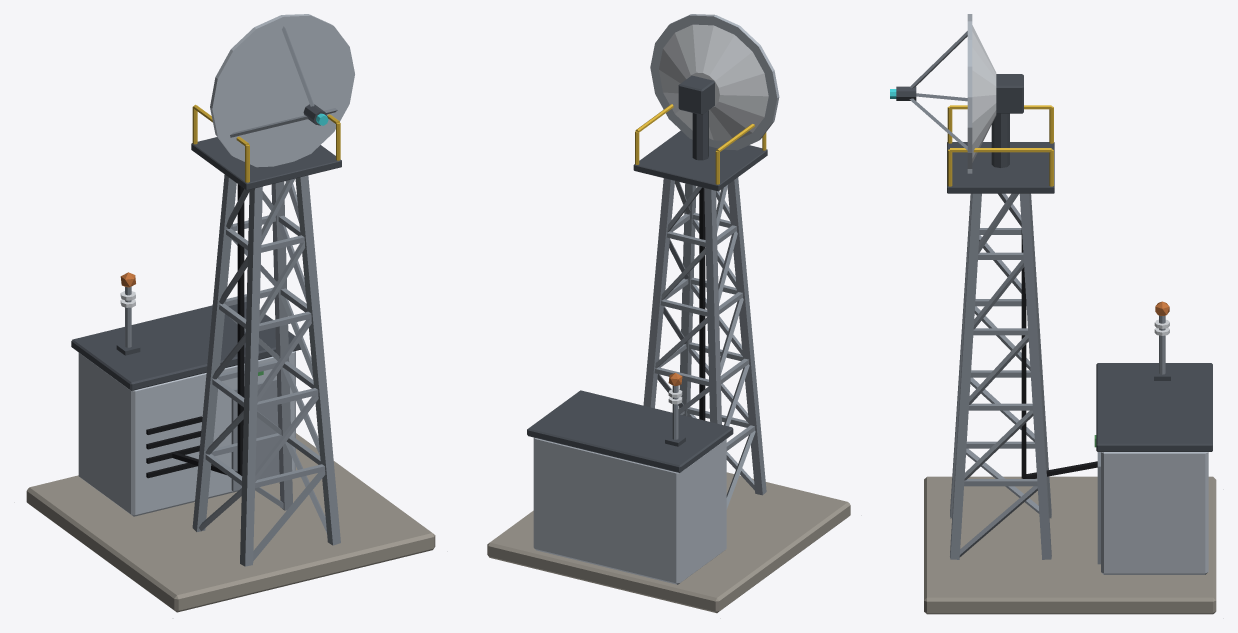
The model's file is relais_hyperfrequence.glb.
The picture shows the model from 3 angles, left to right: view 1: azimuth 30°, elevation 25°; view 2: azimuth 150°, elevation 25°; view 3: azimuth 270°, elevation 25°; orthographic projection. The views are drawn at different scales.
Visible parts, largest first — view 1: pieces_acier.018, pieces_beton.006, pieces_gris_clair.006, parabole_bord.002, pieces_acier_sombre.016, pieces_noir.014, parabole_acier.002, pieces_jaune.012; view 2: pieces_gris_clair.006, pieces_acier.018, pieces_beton.006, pieces_acier_sombre.016, parabole_coque.002, parabole_bord.002, parabole_acier_sombre.002, pieces_noir.014, pieces_jaune.012; view 3: pieces_beton.006, pieces_acier.018, pieces_acier_sombre.016, pieces_gris_clair.006, parabole_acier_sombre.002, parabole_coque.002, pieces_noir.014, pieces_jaune.012, parabole_bord.002, parabole_acier.002.
Boxes of the visible parts, x1,y1,x2,y2 form: pieces_acier.018: (125, 174, 340, 566); pieces_beton.006: (26, 433, 435, 612); pieces_gris_clair.006: (78, 351, 295, 516); parabole_bord.002: (210, 14, 354, 167); pieces_acier_sombre.016: (71, 137, 341, 390); pieces_noir.014: (146, 184, 244, 478); parabole_acier.002: (230, 26, 337, 137); pieces_jaune.012: (192, 104, 340, 182); pieces_gris_clair.006: (533, 437, 726, 584); pieces_acier.018: (643, 177, 766, 509); pieces_beton.006: (487, 472, 850, 613); pieces_acier_sombre.016: (527, 130, 767, 472); parabole_coque.002: (659, 24, 768, 140); parabole_bord.002: (650, 14, 779, 150); parabole_acier_sombre.002: (678, 75, 714, 160); pieces_noir.014: (699, 187, 705, 420); pieces_jaune.012: (635, 104, 766, 184); pieces_beton.006: (924, 476, 1216, 614); pieces_acier.018: (950, 193, 1165, 564); pieces_acier_sombre.016: (947, 142, 1212, 451); pieces_gris_clair.006: (1101, 452, 1208, 574); parabole_acier_sombre.002: (896, 74, 1023, 167); parabole_coque.002: (972, 25, 996, 162); pieces_noir.014: (1021, 228, 1097, 478); pieces_jaune.012: (947, 105, 1053, 186); parabole_bord.002: (967, 14, 972, 173); parabole_acier.002: (909, 31, 967, 150).
Size of the model in its own units: 1 by 1.91 by 1.08.
